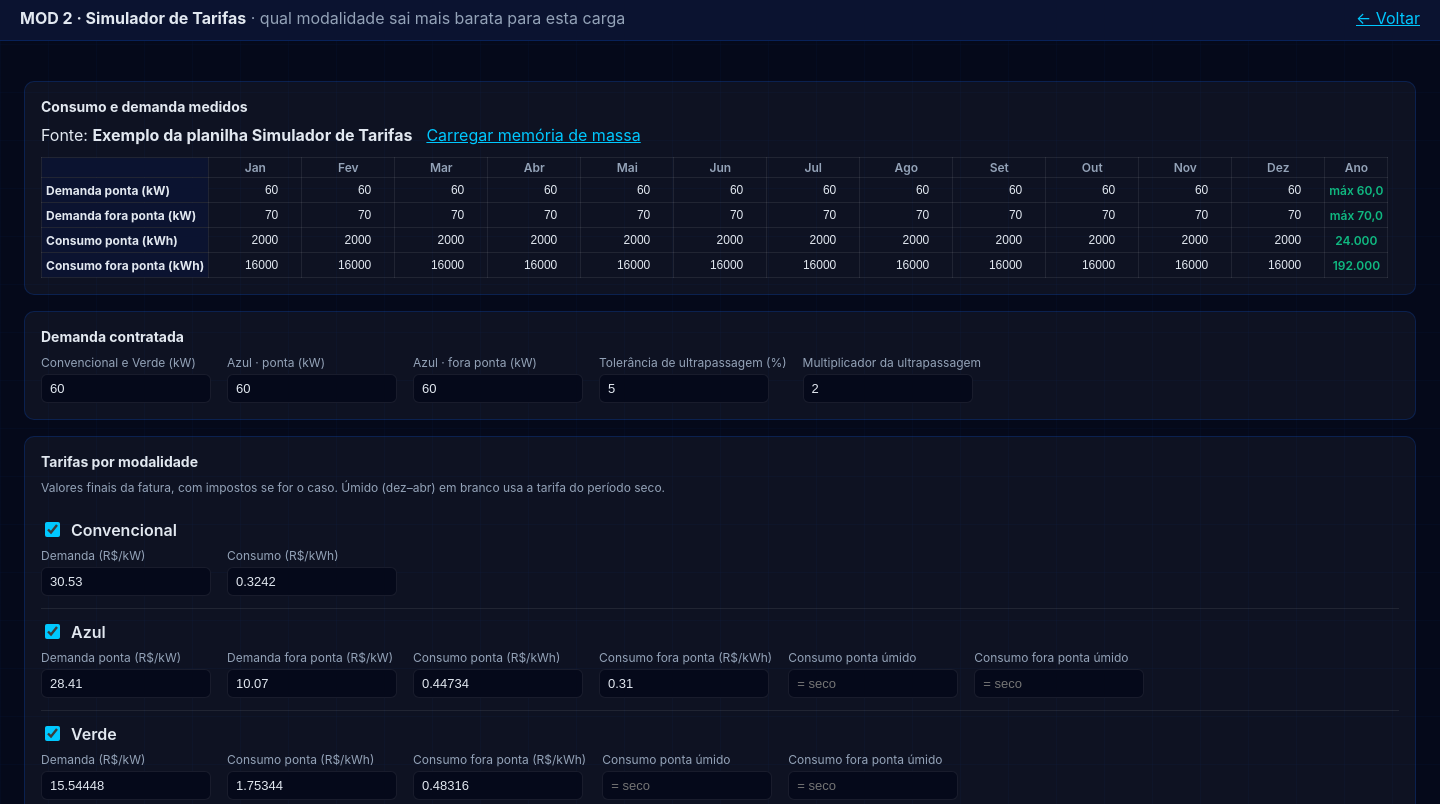
Test case: GridPage › edita um mês, aceita vírgula na tarifa e deixa de fora a modalidade desmarcada
Replace the text in the number field named "Demanda fora ponta (kW) · Mar" with "88" at (441, 215), box [399, 205, 483, 225]
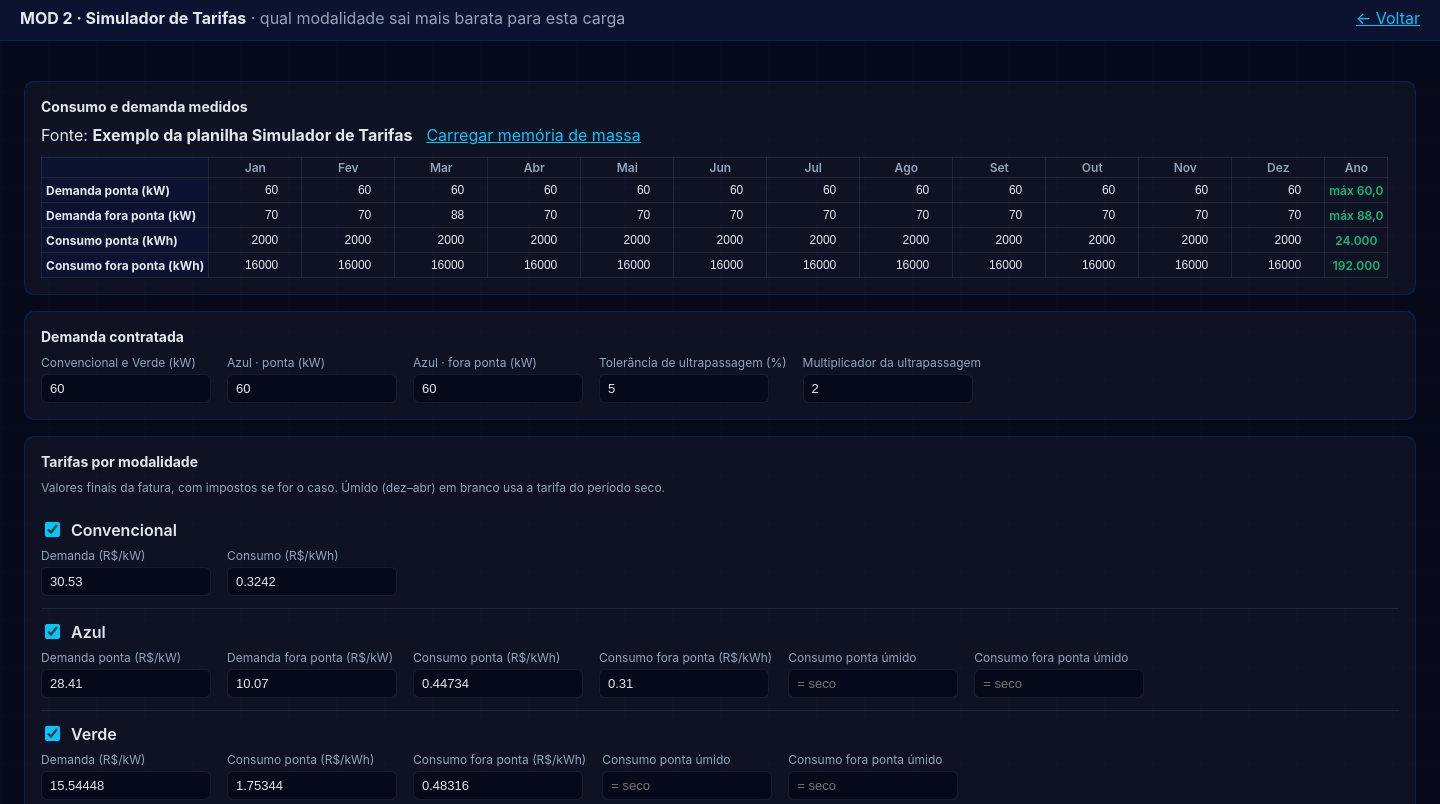
Replace the text in the field labelled "Consumo (R$/kWh)" with "0,35" at (312, 582), box [227, 567, 397, 596]
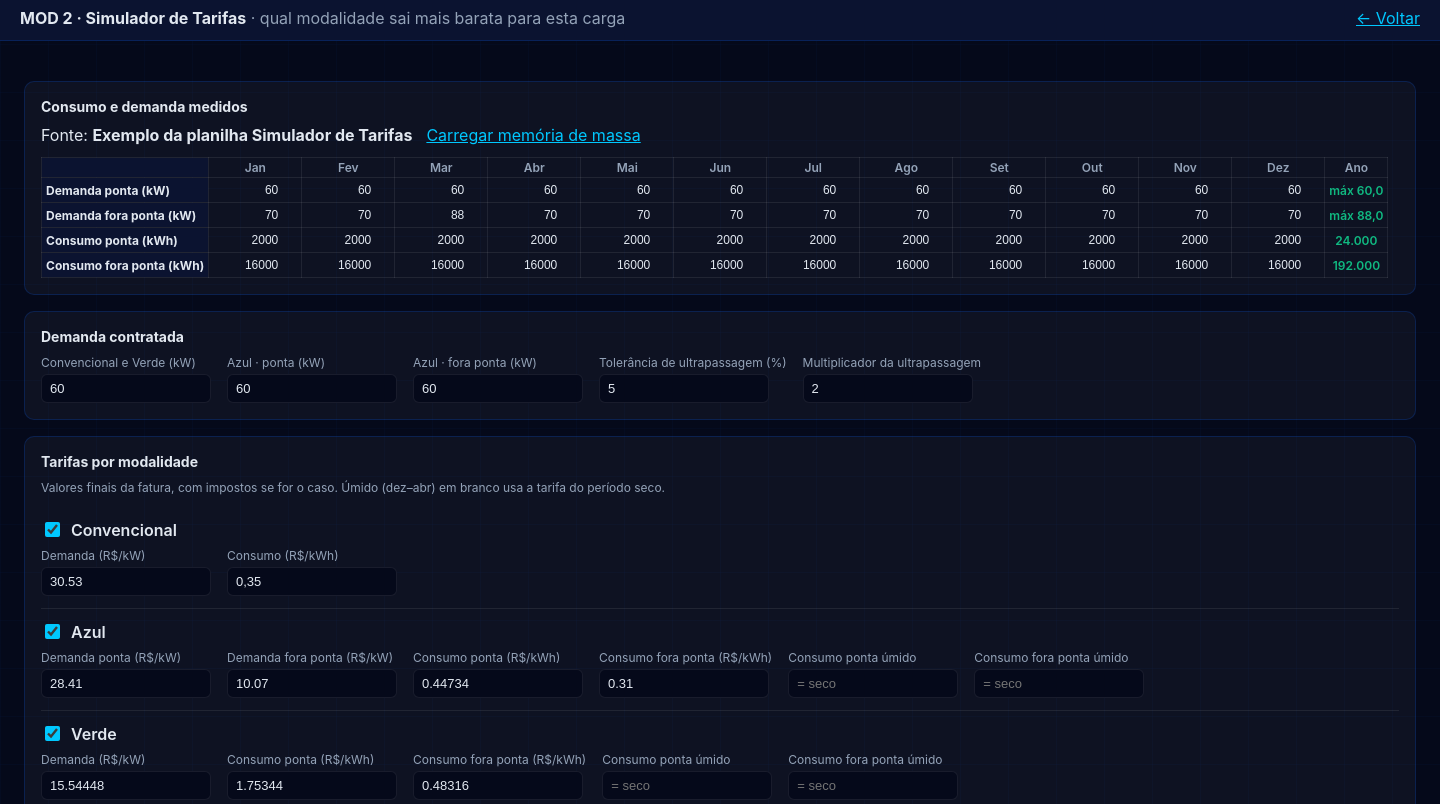
Click the checkbox labelled "Verde".
click(52, 734)  # box [45, 726, 60, 741]
(page scrolled)
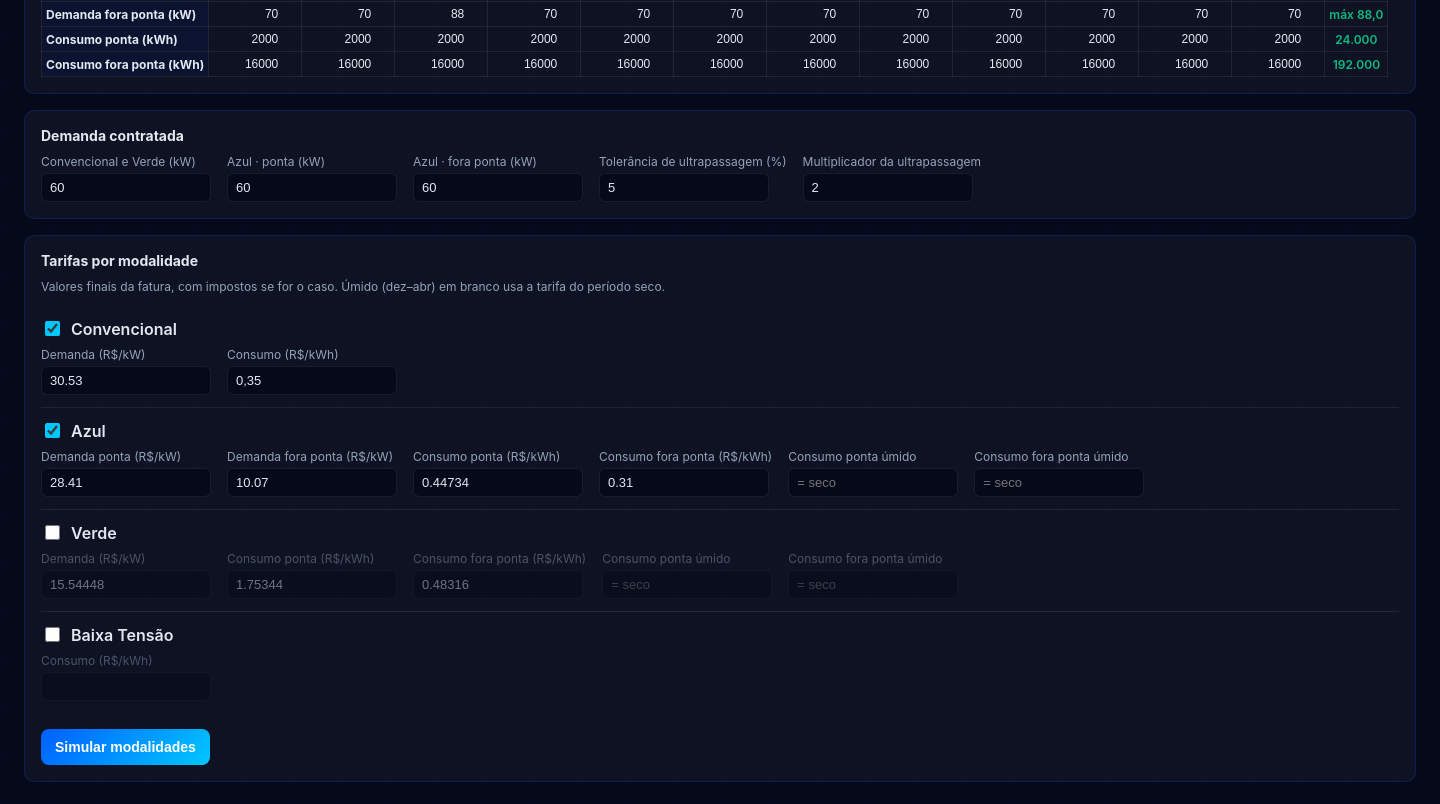
Click the button "Simular modalidades".
click(125, 747)  # box [41, 729, 210, 765]
(page scrolled)
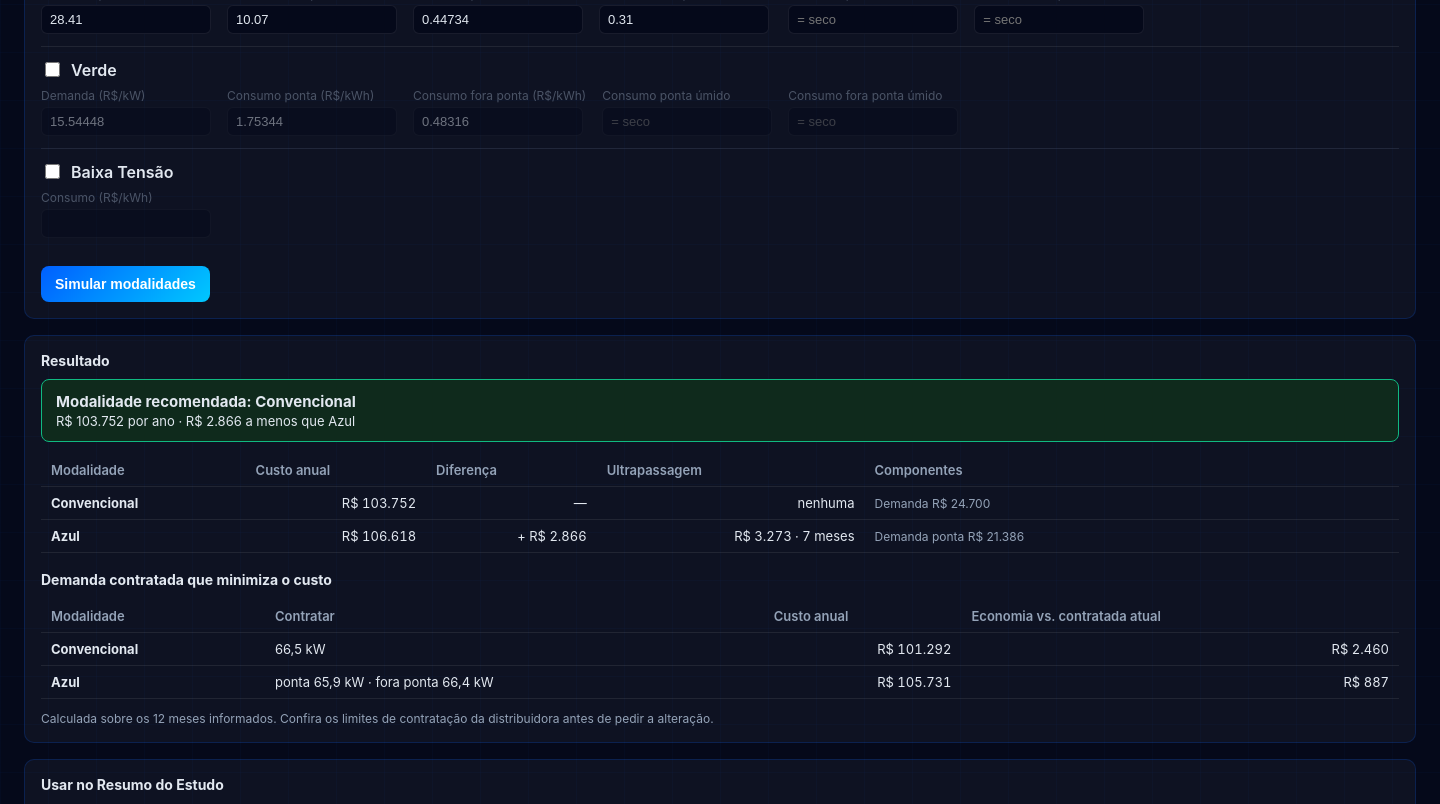
Result: the text "Modalidade recomendada: Convencional" is shown at [56, 392, 356, 411]
